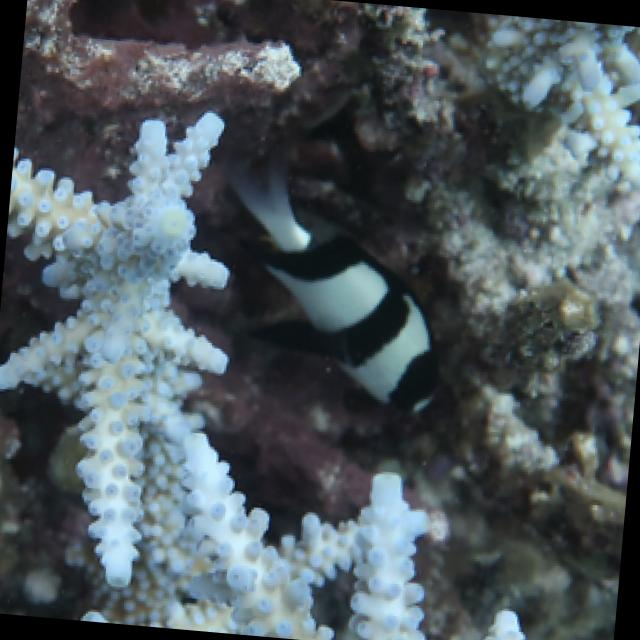ThreeStripedDamselfish: (230, 159, 439, 415)
